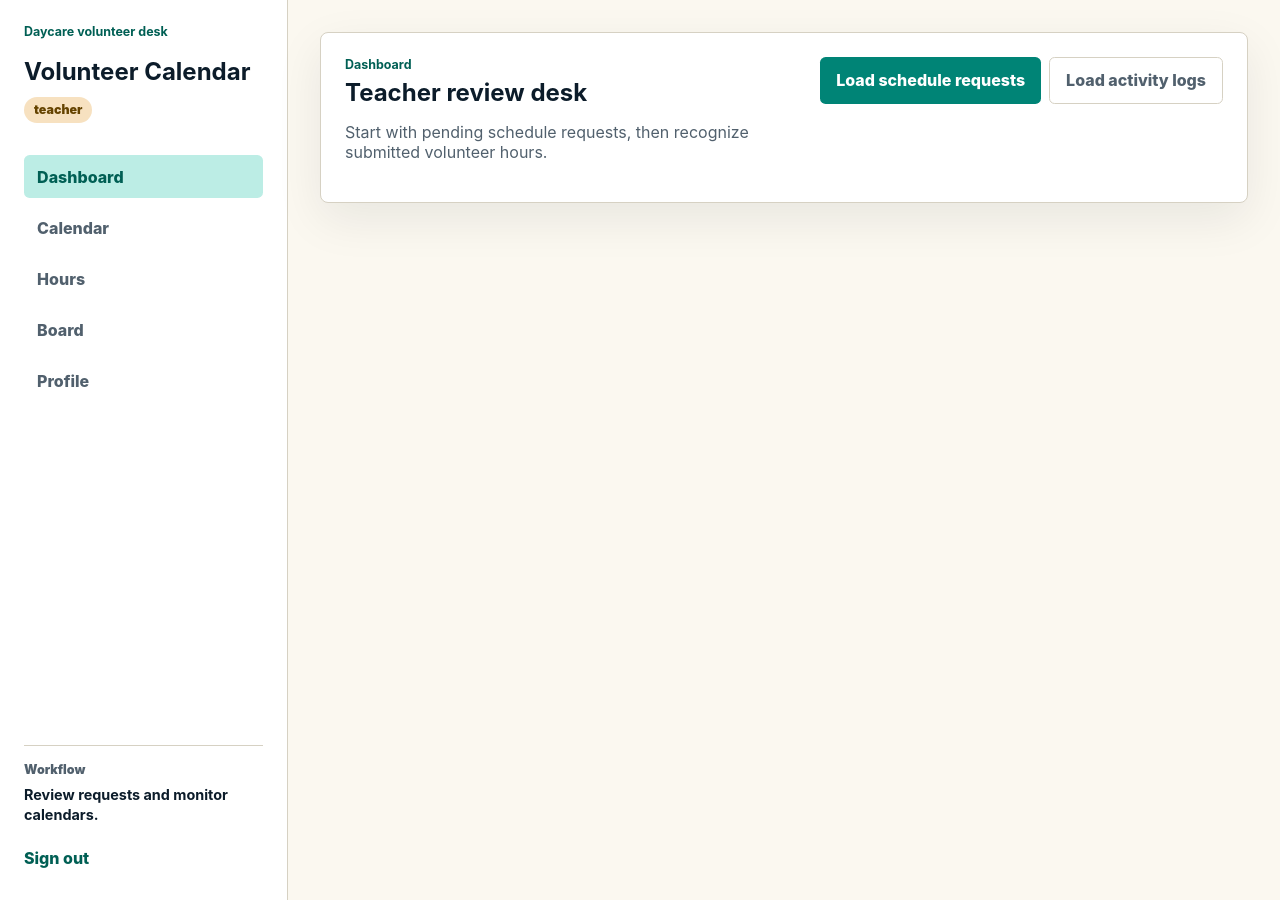
Test: App › disables the teacher passcode form for existing teachers
Click the button "Profile" at (144, 381), box [24,359,263,402]
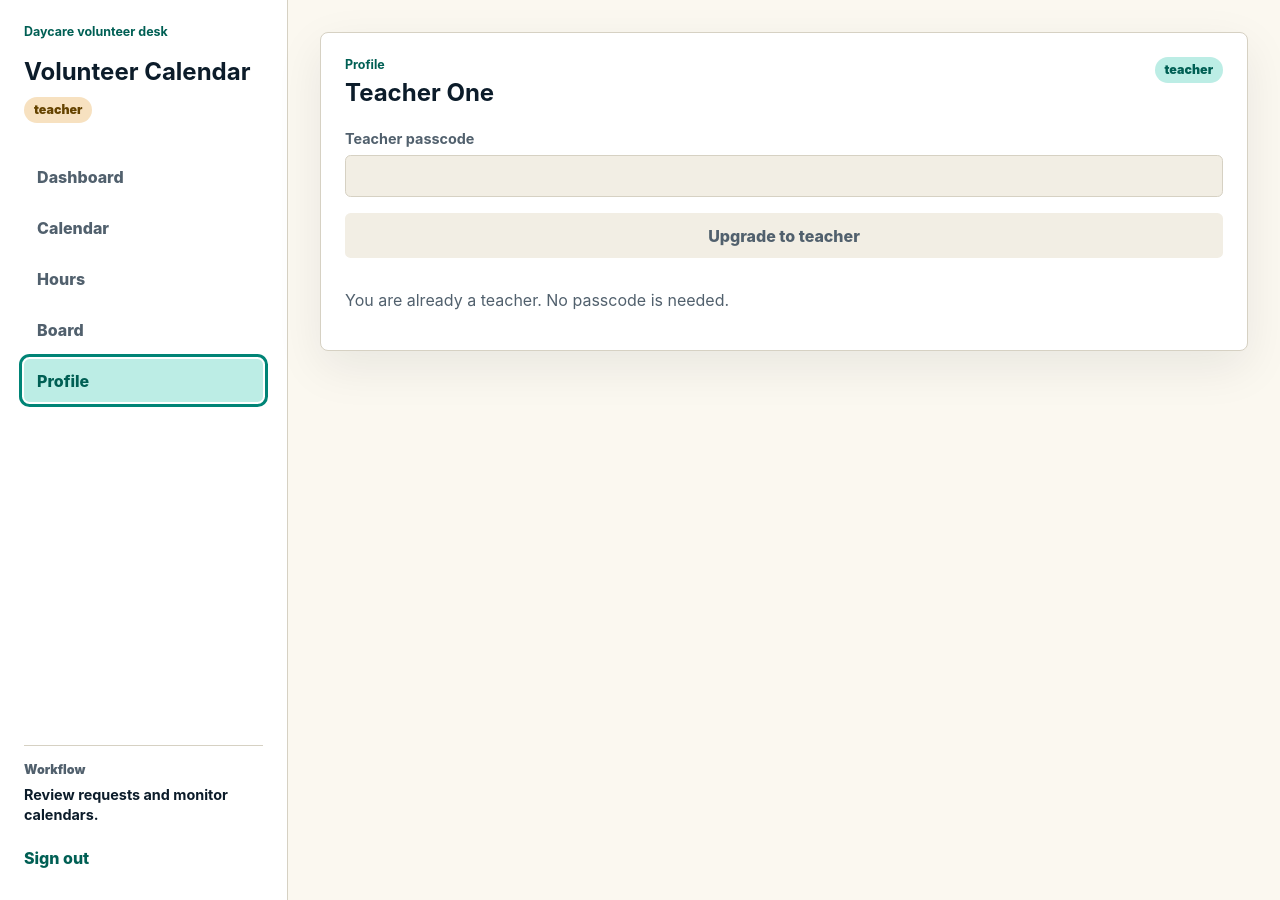
Check: the password field labelled "Teacher passcode" is disabled, box [345,155,1223,197]
Check: the button "Upgrade to teacher" is disabled, box [345,213,1223,258]
Check: the text "You are already a teacher. No passcode is needed." is shown, box [345,290,729,310]
